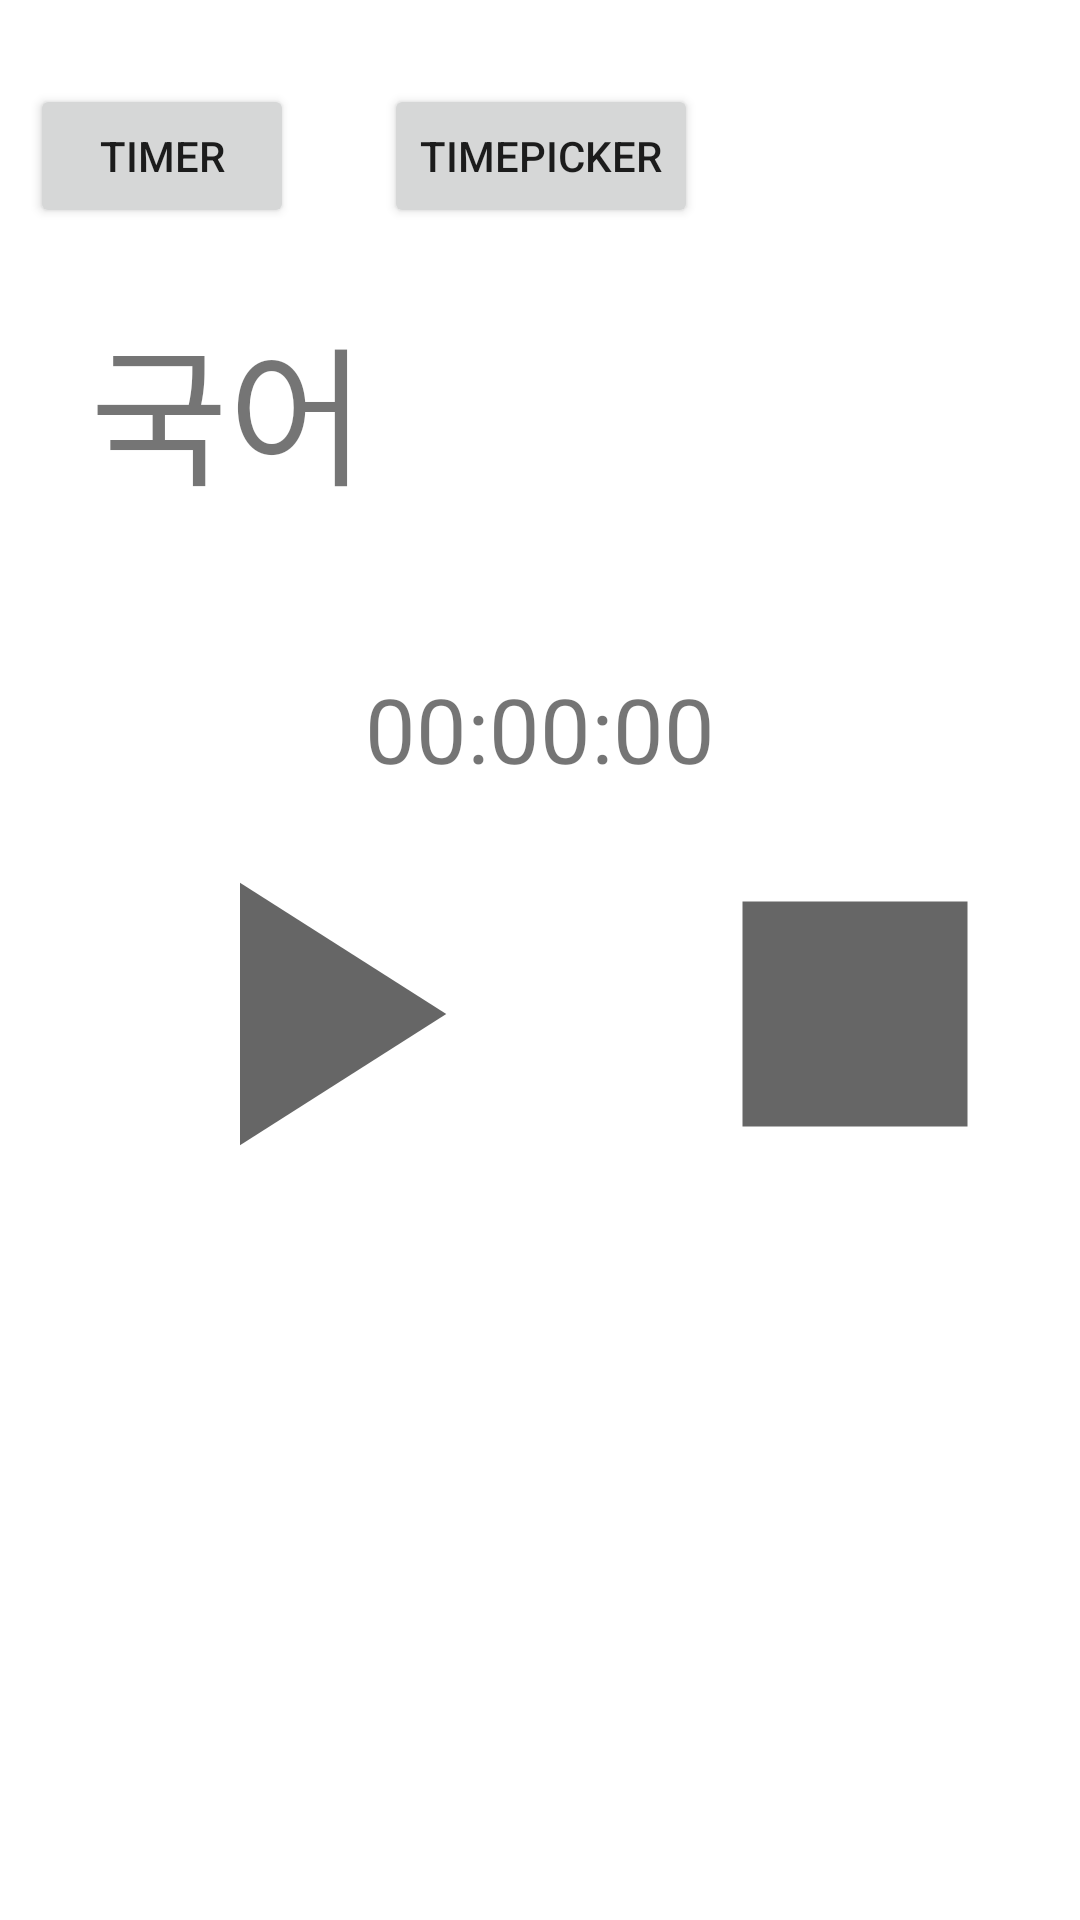

Point at icon controls on the screen. Image size 1080×1920, points as point (x, y).
play: point (343, 1014)
stiop: point (855, 1014)
